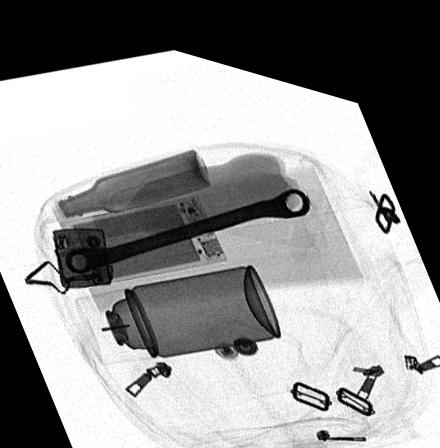Lighter: (51, 221, 112, 286)
Powerbank: (57, 182, 228, 281)
Sprayer: (72, 248, 280, 359)
